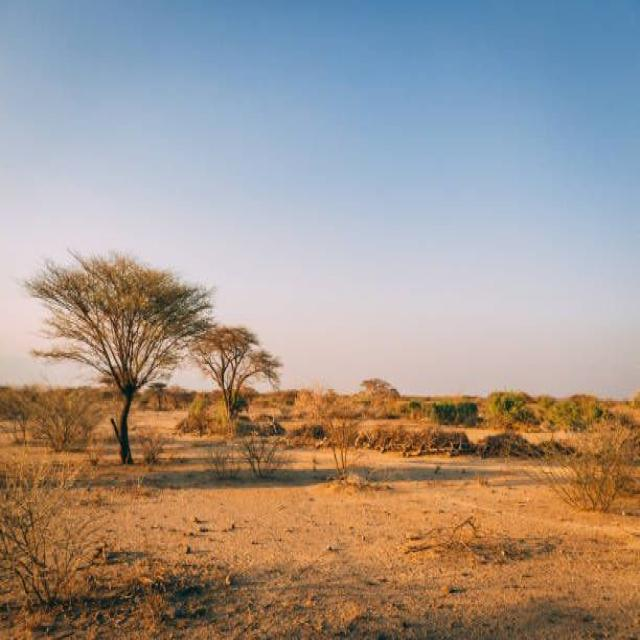Acacia: (37, 258, 188, 458), (198, 315, 279, 414)
